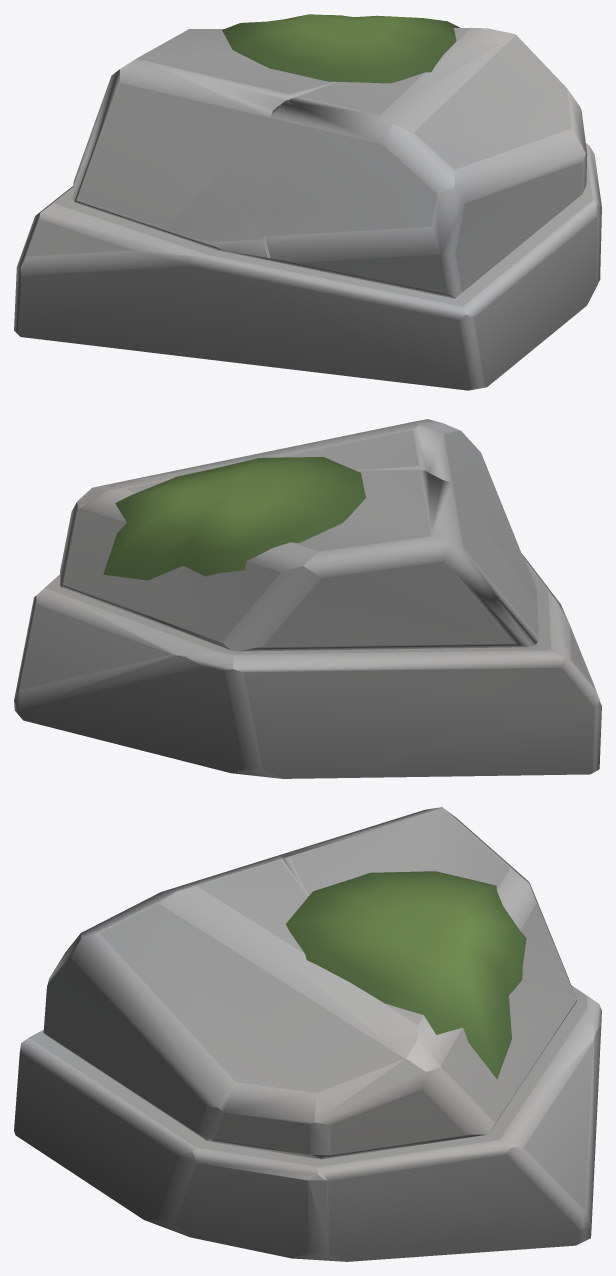
The model's file is rock_shelf.glb.
The picture shows the model from 3 angles, top to bottom: view 1: azimuth 30°, elevation 25°; view 2: azimuth 150°, elevation 25°; view 3: azimuth 270°, elevation 25°; orthographic projection. The views are drawn at different scales.
Visible parts, largest first — view 1: rock_shelf_LOD0; view 2: rock_shelf_LOD0; view 3: rock_shelf_LOD0.
Part boxes in pixels (x1=…): rock_shelf_LOD0: x1=14, y1=14, x2=601, y2=390; rock_shelf_LOD0: x1=14, y1=419, x2=601, y2=778; rock_shelf_LOD0: x1=14, y1=807, x2=601, y2=1261.
Size of what is drawn, in the model's own units: 1.39 by 0.5438 by 1.19.
